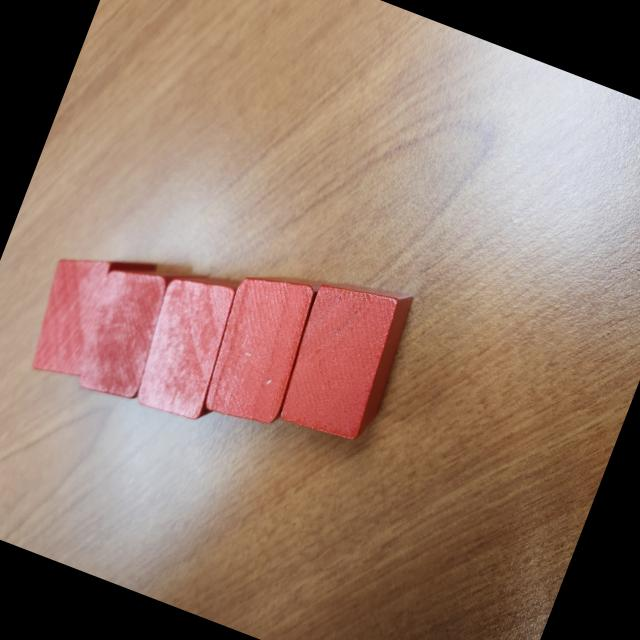red: (268, 263, 423, 452), (191, 254, 333, 438), (66, 244, 208, 417), (122, 256, 255, 430), (19, 231, 158, 397)
